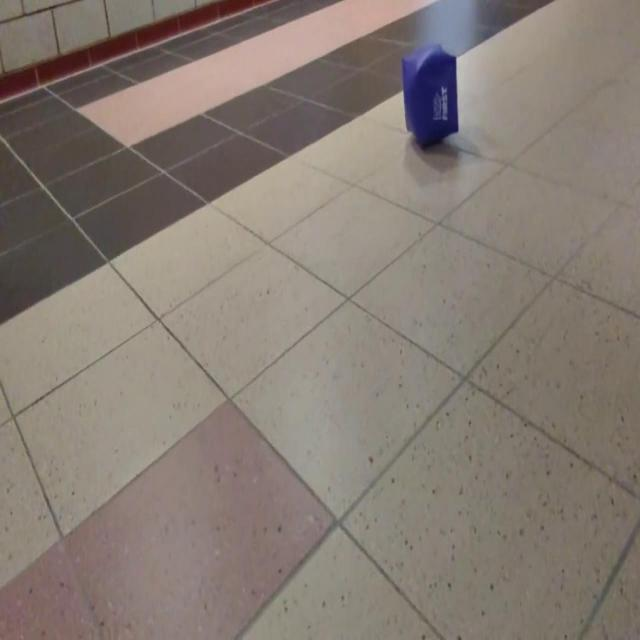frc_cube: (400, 44, 458, 148)
